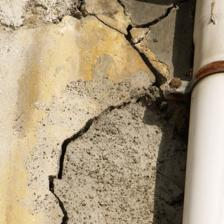Crack: (38, 34, 101, 147), (0, 0, 87, 45), (1, 111, 79, 141)
